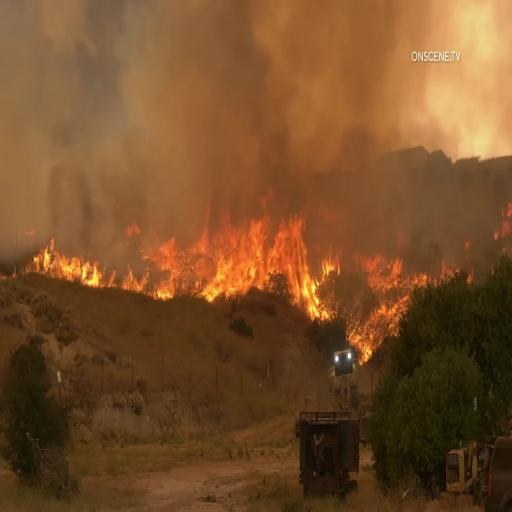fire: (156, 194, 313, 310), (28, 242, 149, 307), (350, 258, 418, 342)
smoke: (206, 7, 278, 189)
